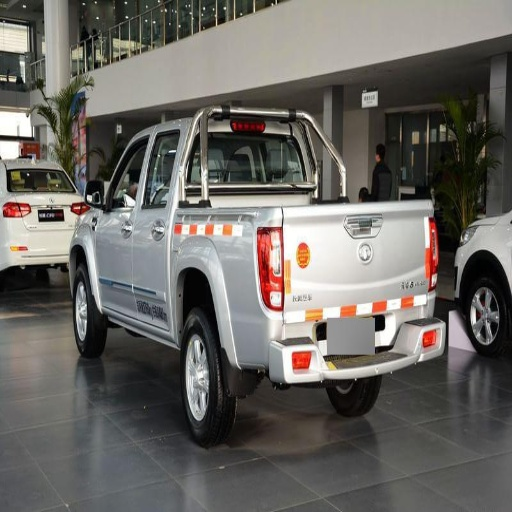trunk: (149, 198, 438, 365)
